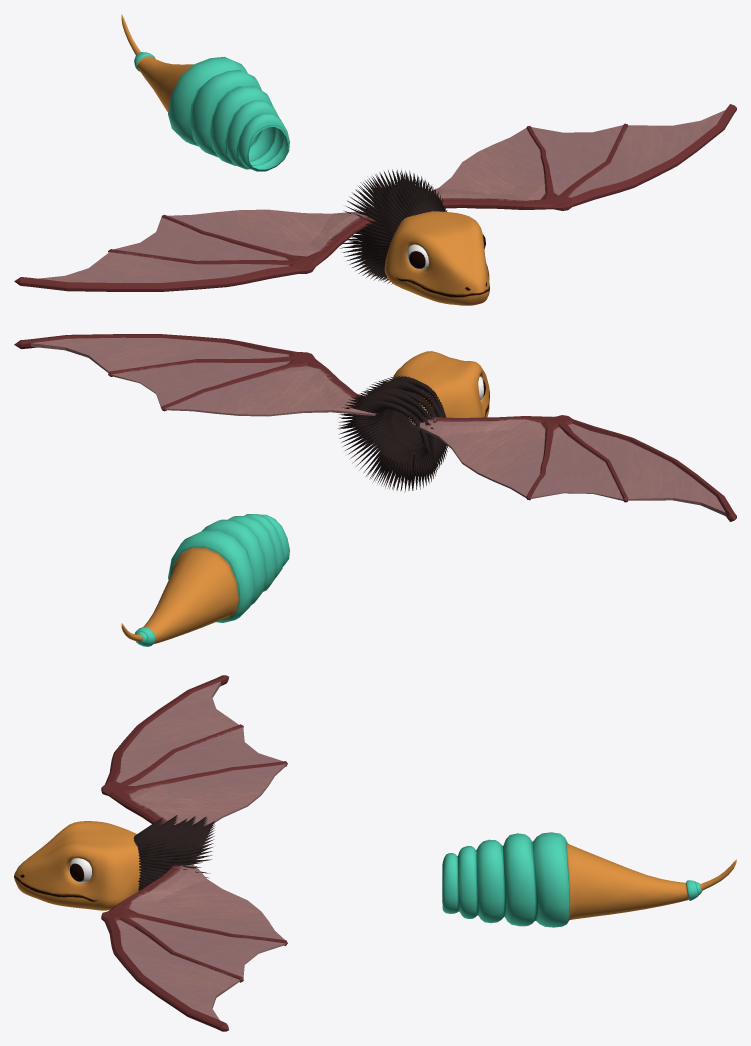
Rendered from yamorik.fbx.
3 views of the same model, one above another, from view 1: azimuth 30°, elevation 25°; view 2: azimuth 150°, elevation 25°; view 3: azimuth 270°, elevation 25° (orthographic).
Visible parts, largest first — view 1: wing, oppo, head; view 2: wing, oppo, head; view 3: wing, oppo, head.
Boxes of the visible parts, <box> form: wing: <box>14,104,736,291</box>; oppo: <box>121,14,289,171</box>; head: <box>384,211,489,305</box>; wing: <box>14,334,736,521</box>; oppo: <box>121,514,289,646</box>; head: <box>392,351,489,423</box>; wing: <box>101,675,287,1031</box>; oppo: <box>442,832,736,927</box>; head: <box>14,821,141,910</box>.
Size of the model in its own units: 220 by 31.11 by 190.
